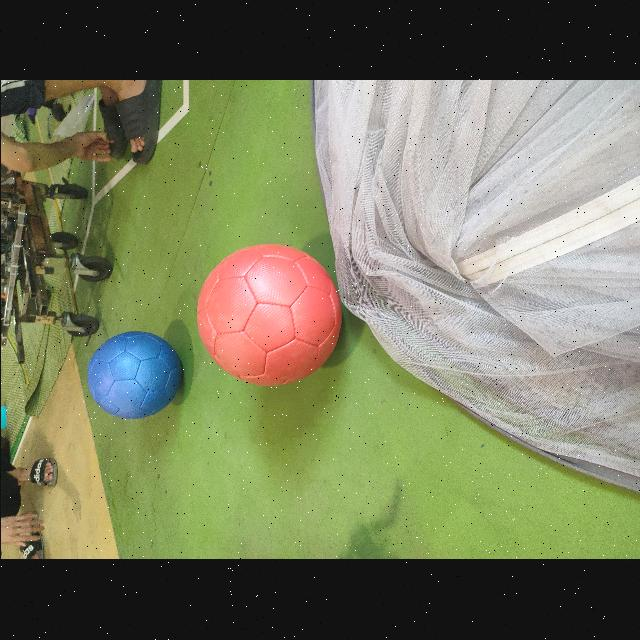B: (87, 330, 185, 421)
R: (197, 244, 344, 388)
